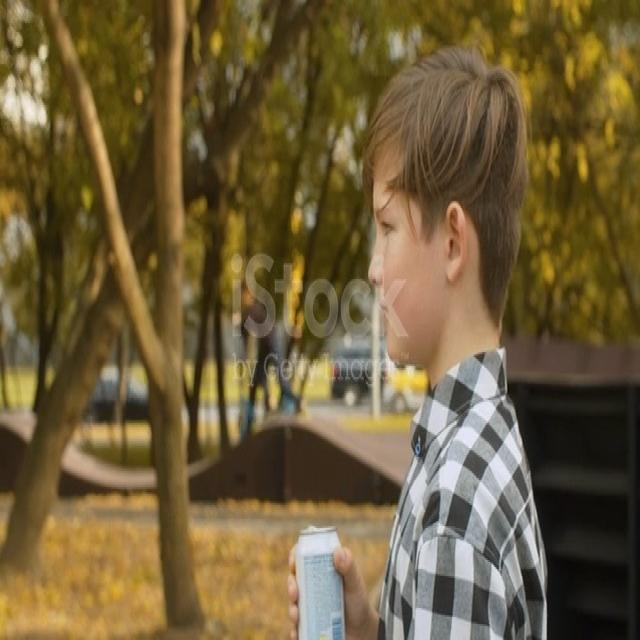can: (295, 522, 345, 640)
